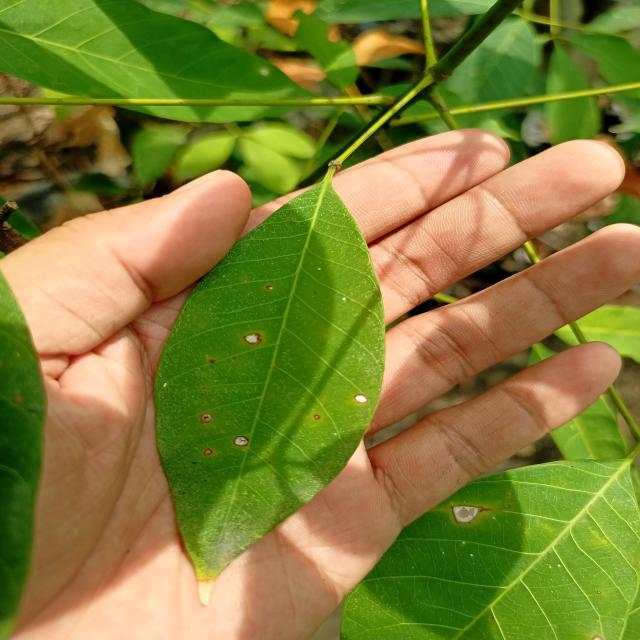Colletotrichum: (243, 333, 262, 345), (233, 436, 250, 446), (354, 394, 368, 403), (200, 413, 212, 423), (203, 448, 213, 456), (314, 414, 320, 420), (233, 357, 236, 359)
